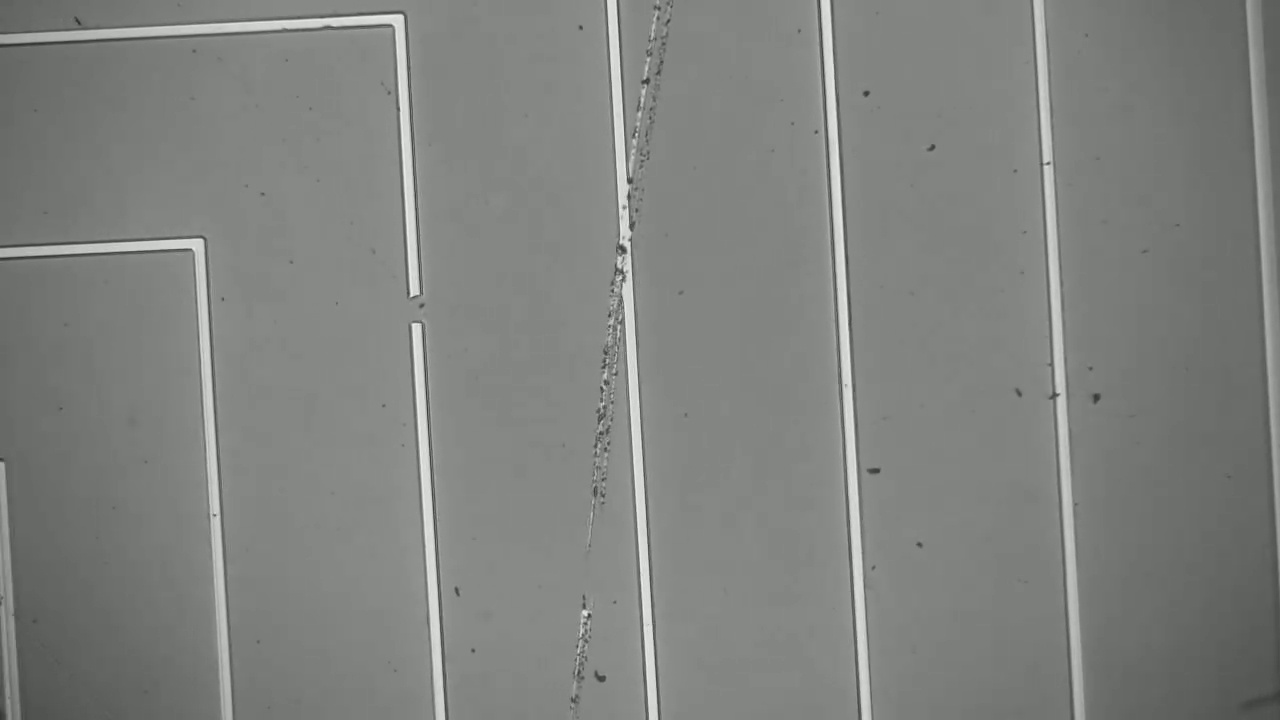open: (395, 276, 436, 343)
scratch: (555, 13, 670, 719)
